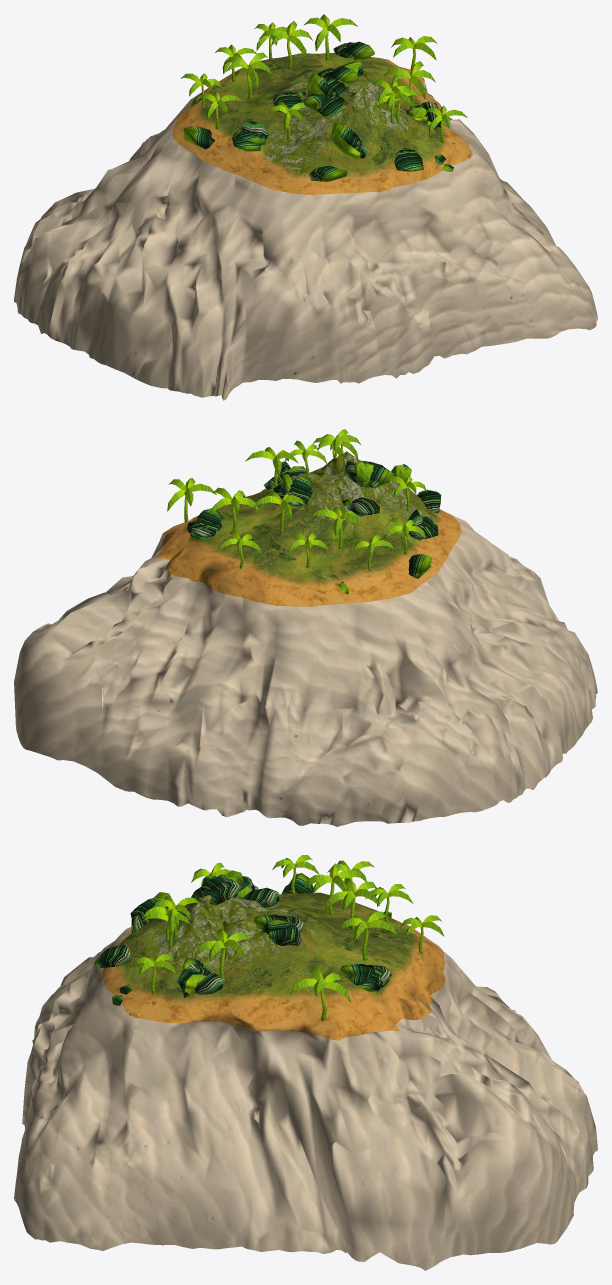
File: island-t01.glb
3 views of the same model, one above another, from view 1: azimuth 30°, elevation 25°; view 2: azimuth 150°, elevation 25°; view 3: azimuth 270°, elevation 25° (orthographic). The views are drawn at different scales.
Visible parts, largest first — view 1: island; view 2: island; view 3: island.
Boxes of the visible parts, x1,y1,x2,y2 form: island: (14,14,597,400); island: (14,429,597,826); island: (14,855,597,1270).
Size of the model in its own units: 53.97 by 26.76 by 51.52.
Materials: 3 (3 with a texture image).
